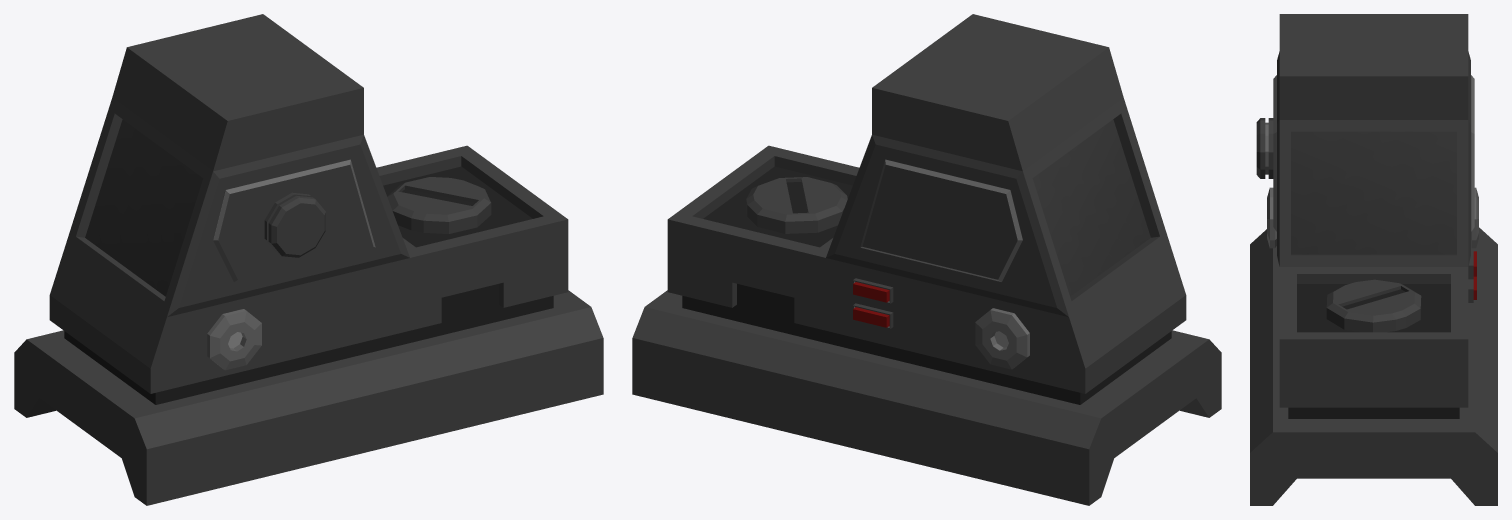
Rendered from ZC57_Attachment_OpticV1.glb.
3 views of the same model, side by side, from view 1: azimuth 30°, elevation 25°; view 2: azimuth 150°, elevation 25°; view 3: azimuth 270°, elevation 25° (orthographic). The views are drawn at different scales.
Parts seen in each view (by area): view 1: ZC57_Attachment_OpticV1; view 2: ZC57_Attachment_OpticV1; view 3: ZC57_Attachment_OpticV1.
Boxes of the visible parts, x1,y1,x2,y2 form: ZC57_Attachment_OpticV1: (14, 14, 603, 505); ZC57_Attachment_OpticV1: (632, 14, 1221, 505); ZC57_Attachment_OpticV1: (1250, 14, 1497, 505).
Size of the model in its own units: 0.0467 by 0.0342 by 0.0234.
1 material, 1 textured.
